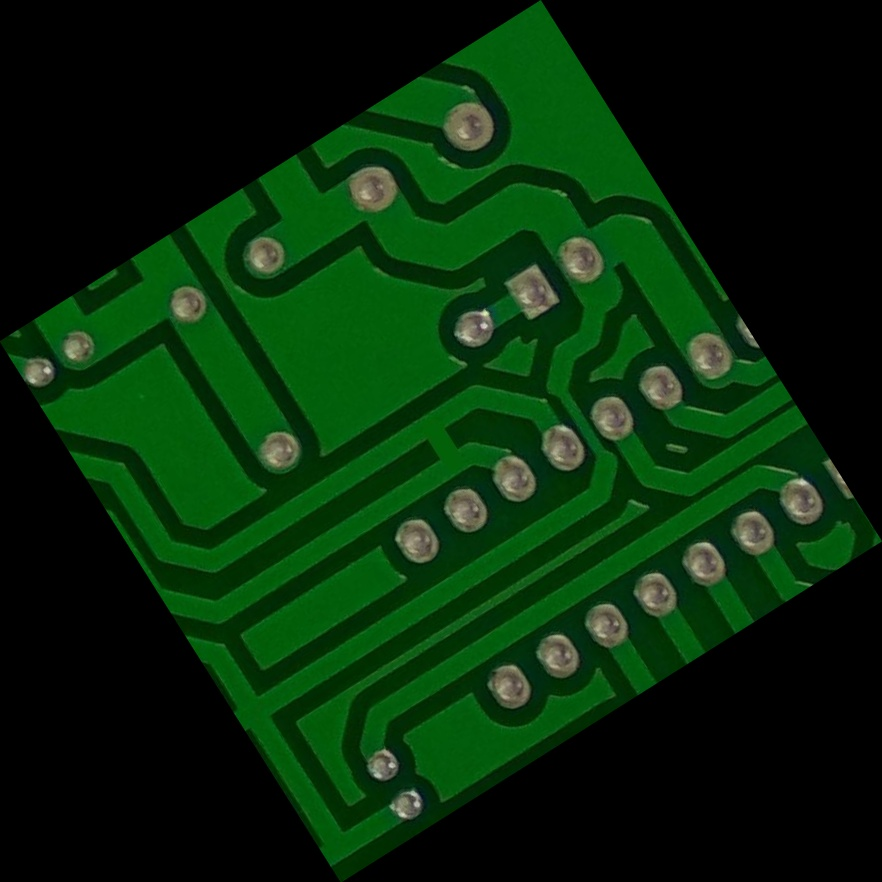short: (386, 387, 498, 496)
